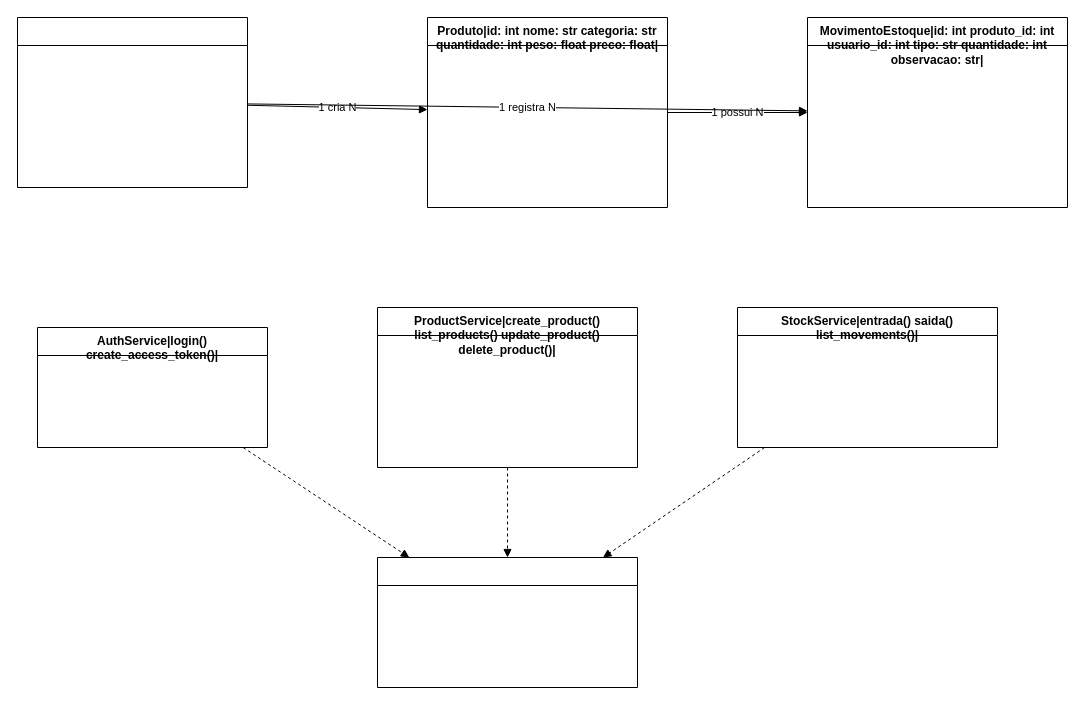
The diagram is 1085 pixels wide and 705 high, and some of its shapes have lost their labels. Each missing label, with the centre of its shape:
"Repositories|UserRepository ProductRepository StockRepository|" goes at pixel 507 622.
"User|id: int nome: str email: str senha_hash: str perfil: str ativo: bool|" goes at pixel 132 102.
